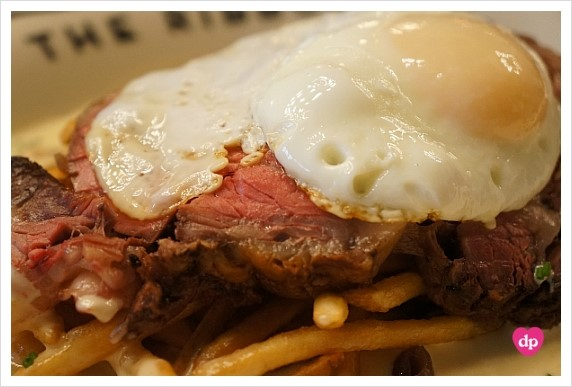fried egg: (88, 53, 524, 200)
